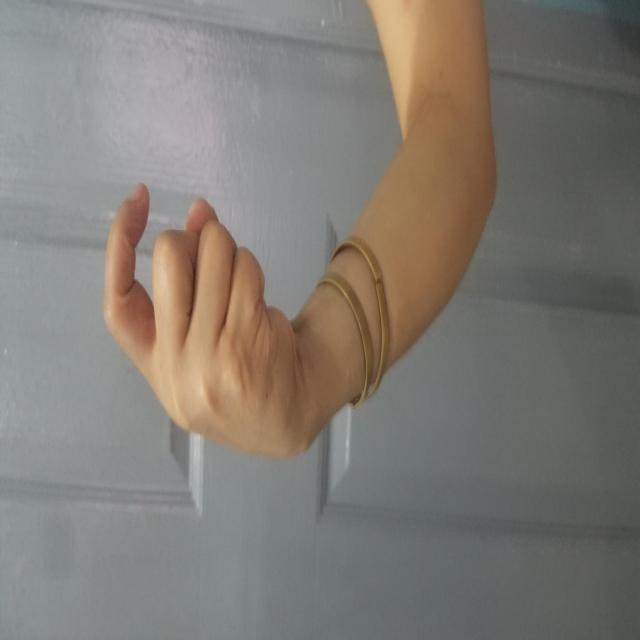X: (177, 103, 460, 309)
